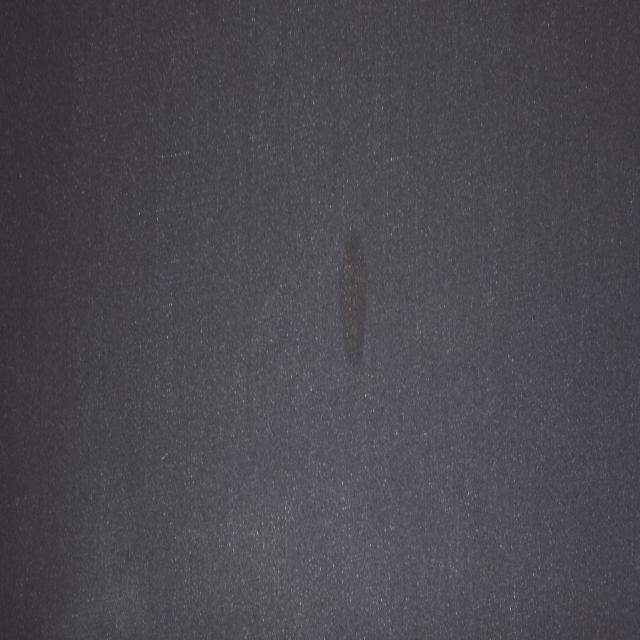Stain: (342, 235, 369, 368)
